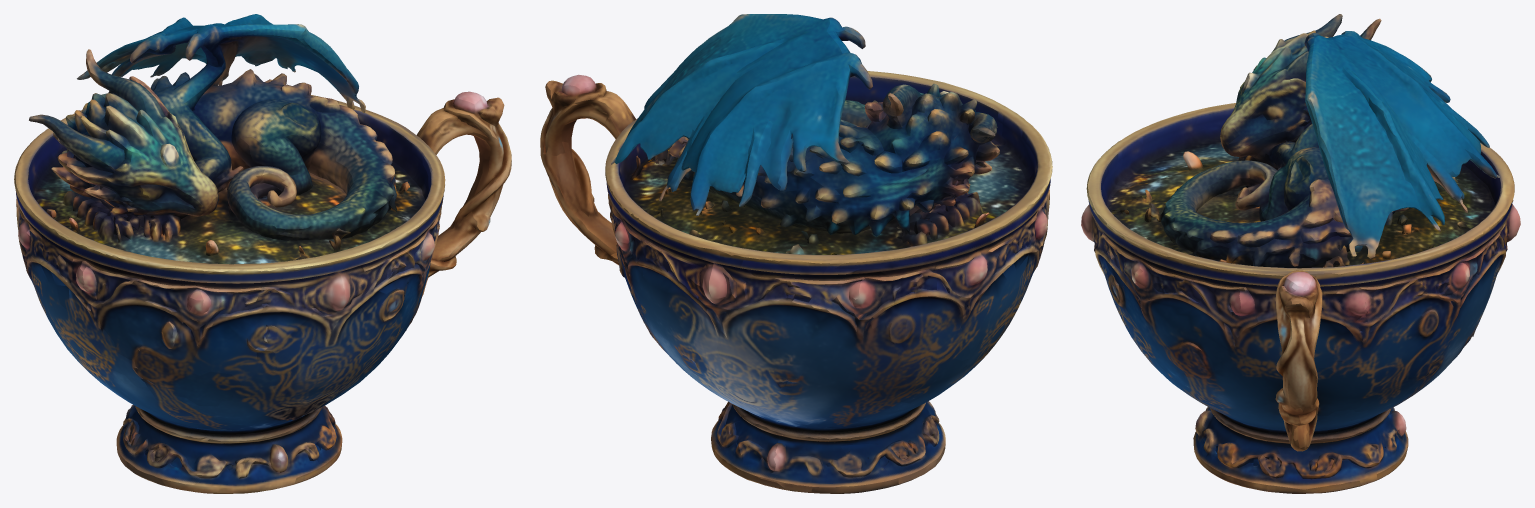
File: teacup-dragon.glb
The picture shows the model from 3 angles, left to right: view 1: azimuth 30°, elevation 25°; view 2: azimuth 150°, elevation 25°; view 3: azimuth 270°, elevation 25°; orthographic projection. The views are drawn at different scales.
Visible parts, largest first — view 1: world; view 2: world; view 3: world.
Boxes of the visible parts, left/top/right/bottom form: world: left=14, top=14, right=511, bottom=493; world: left=540, top=14, right=1052, bottom=493; world: left=1081, top=14, right=1520, bottom=493.
Bounding box in the file's own units: 0.14 × 0.1221 × 0.1192.
Materials: 1 (1 with a texture image).
